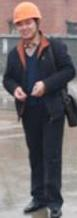boots: (22, 197, 46, 211), (49, 205, 62, 218)
hard-hat: (12, 0, 42, 23)
ppe-suit: (0, 30, 39, 204)
